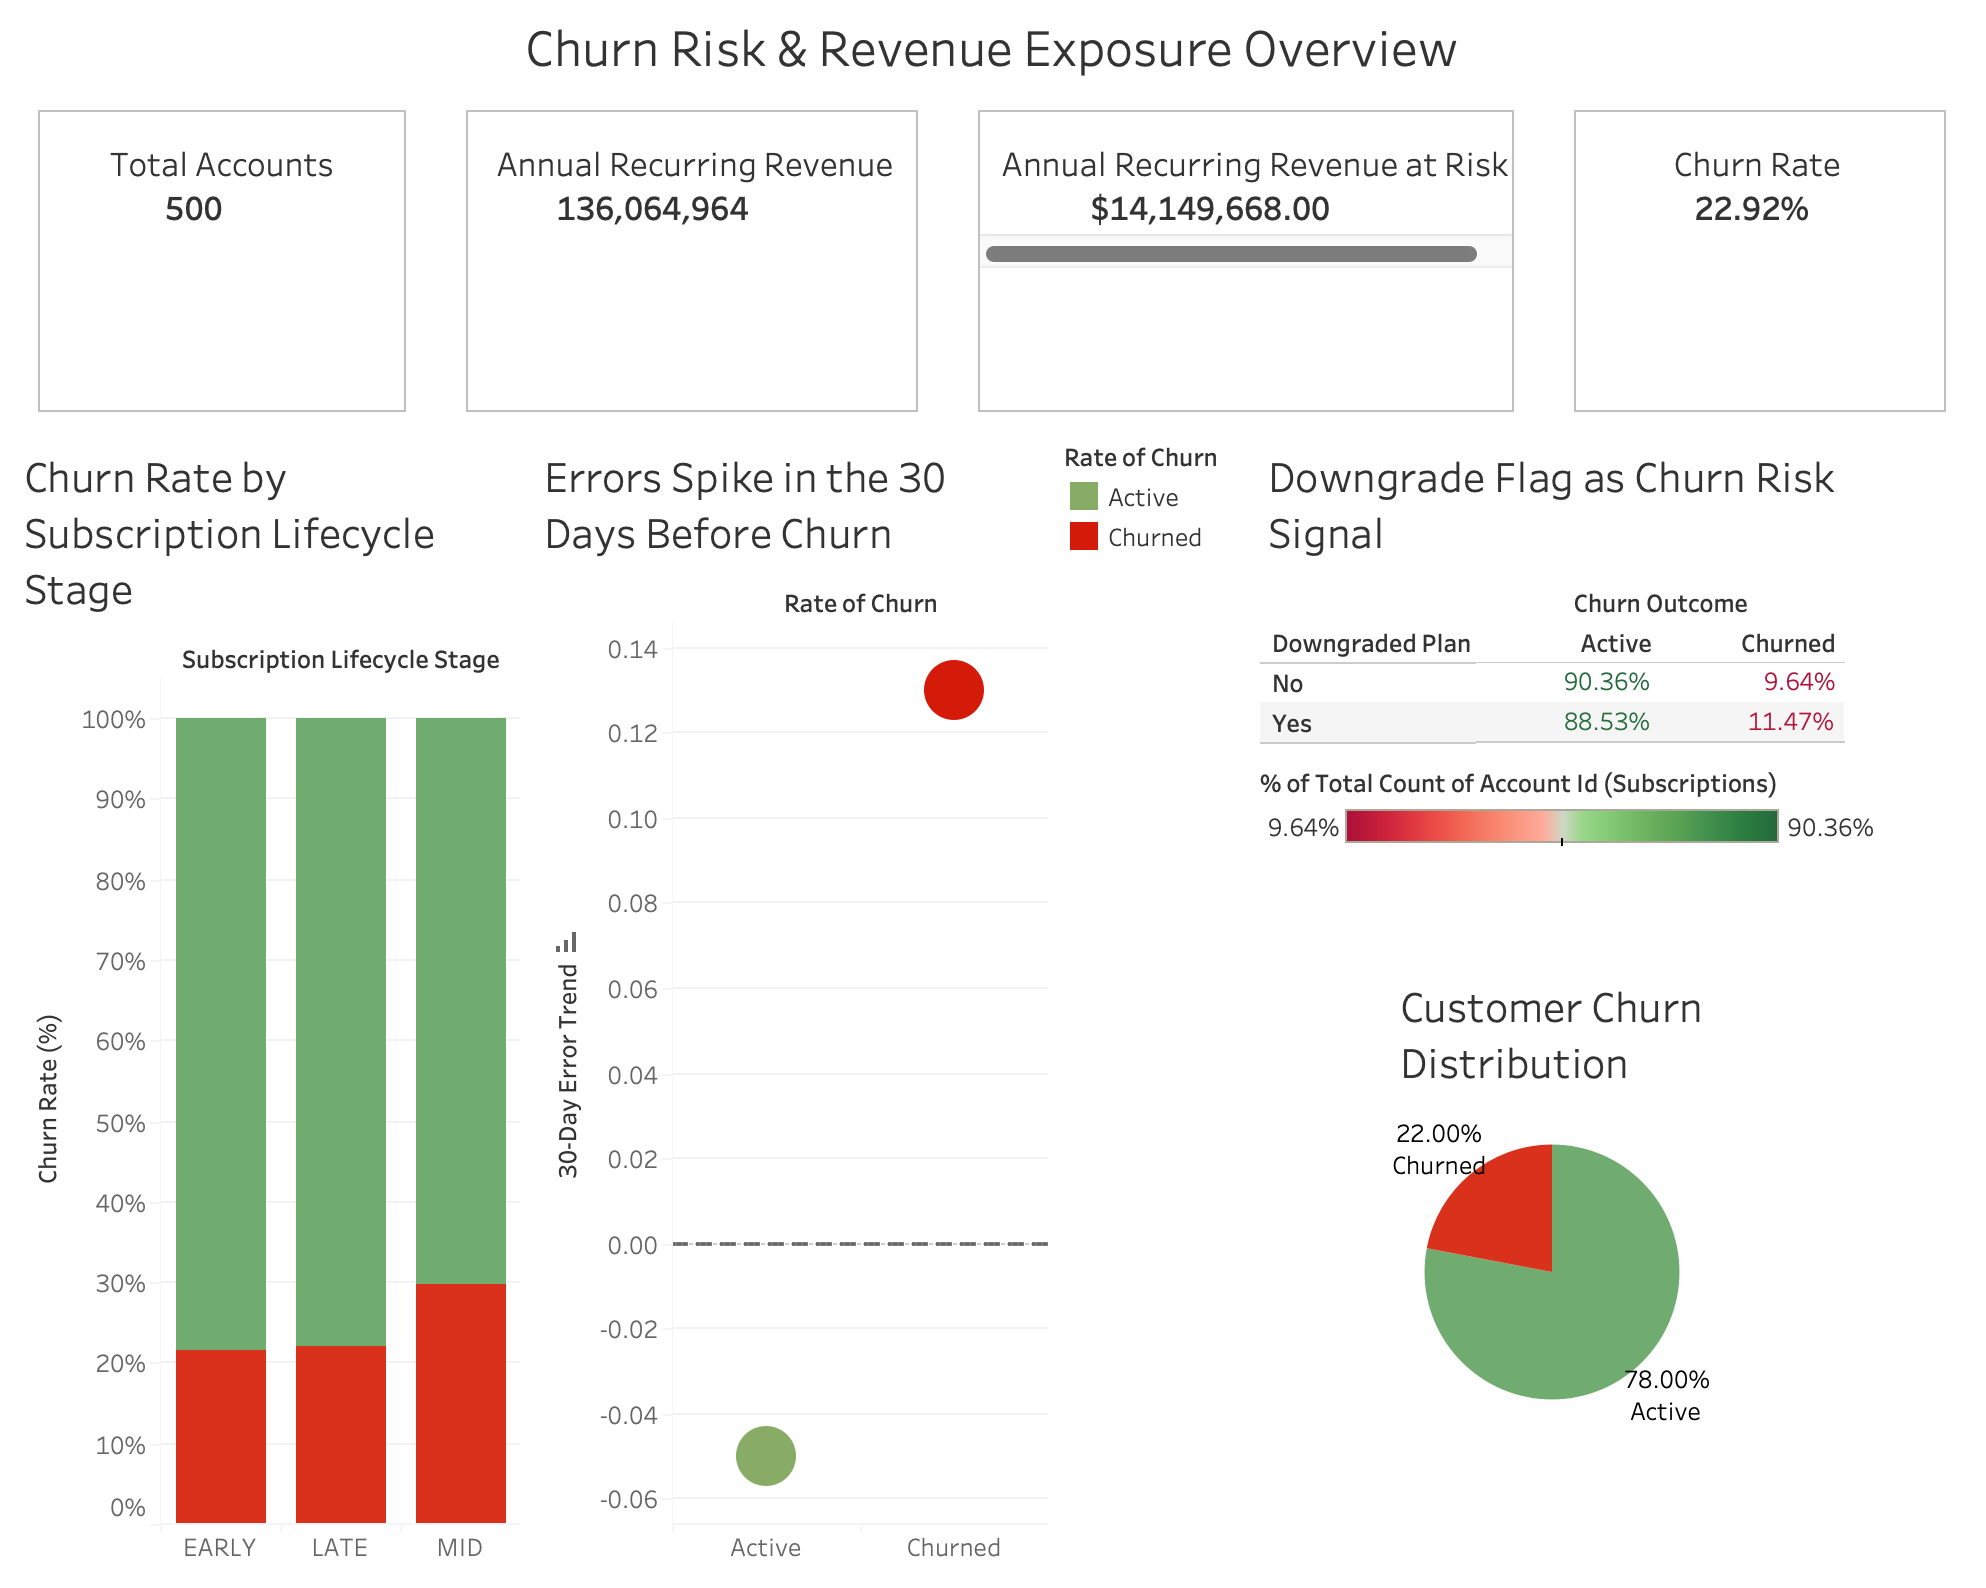

The dashboard page shown, as its layout file describes it:
{"tool":"tableau","page":{"name":"Churn Risk Dashboard","canvas":[1000,800],"ordinal":0},"visuals":[{"type":"title","box":[8,8,984,42]},{"type":"worksheet","title":"KPI (Total Accounts)","mark":"Automatic","box":[8,50,214,171.3]},{"type":"worksheet","title":"KPI(ARR)","mark":"Text","box":[222,50,256,171.3]},{"type":"worksheet","title":"KPI(ARR at Risk)","mark":"Text","box":[478,50,298,171.3]},{"type":"worksheet","title":"KPI (Churn Rate)","mark":"Automatic","box":[776,50,216,171.3]},{"type":"worksheet","title":"Churn Rate by Subscription","mark":"Automatic","cols":["Calculation_5733853881970689"],"box":[8,221.3,260,570.7]},{"type":"worksheet","title":"Error Spikes (Churn driver)","mark":"Circle","rows":["error_delta"],"cols":["churn_flag (Custom SQL Query)"],"box":[268,221.3,264,570.7]},{"type":"legend","title":"Error Spikes (Churn driver)","param":"[federated.1l6e62p1d6flso1gqwxrm00pjtiv].[none:churn_flag (Custom SQL Query):nk]","box":[532,221.3,98,570.7]},{"type":"worksheet","title":"Churn Rate by Customer Downgrade","mark":"Automatic","rows":["downgrade_flag"],"cols":["churn_flag (subscriptions)"],"box":[630,221.3,330,570.7]},{"type":"legend","title":"Churn Rate by Customer Downgrade","param":"[federated.1l6e62p1d6flso1gqwxrm00pjtiv].[pcto:cnt:account_id (subscriptions):qk","box":[634,388,312,76]}]}

Visuals, with their boxes in screenshot pixels (x1, y1, x2, y2), scaled from the page's 1000x800 canvas onto the 1986x1588 screenshot:
title: <region>16, 16, 1970, 99</region>
"KPI (Total Accounts)" worksheet: <region>16, 99, 441, 439</region>
"KPI(ARR)" worksheet (Text marks): <region>441, 99, 949, 439</region>
"KPI(ARR at Risk)" worksheet (Text marks): <region>949, 99, 1541, 439</region>
"KPI (Churn Rate)" worksheet: <region>1541, 99, 1970, 439</region>
"Churn Rate by Subscription" worksheet: <region>16, 439, 532, 1572</region>
"Error Spikes (Churn driver)" worksheet (Circle marks): <region>532, 439, 1057, 1572</region>
"Error Spikes (Churn driver)" legend: <region>1057, 439, 1251, 1572</region>
"Churn Rate by Customer Downgrade" worksheet: <region>1251, 439, 1907, 1572</region>
"Churn Rate by Customer Downgrade" legend: <region>1259, 770, 1879, 921</region>
